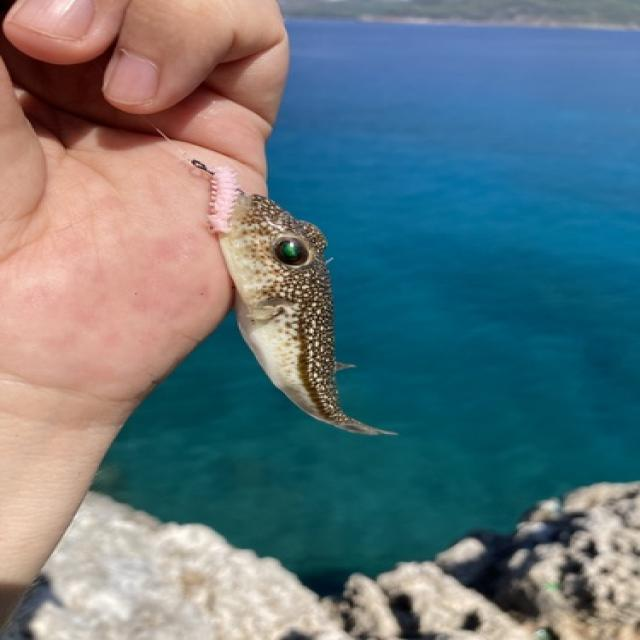Balik: (193, 162, 389, 435)
